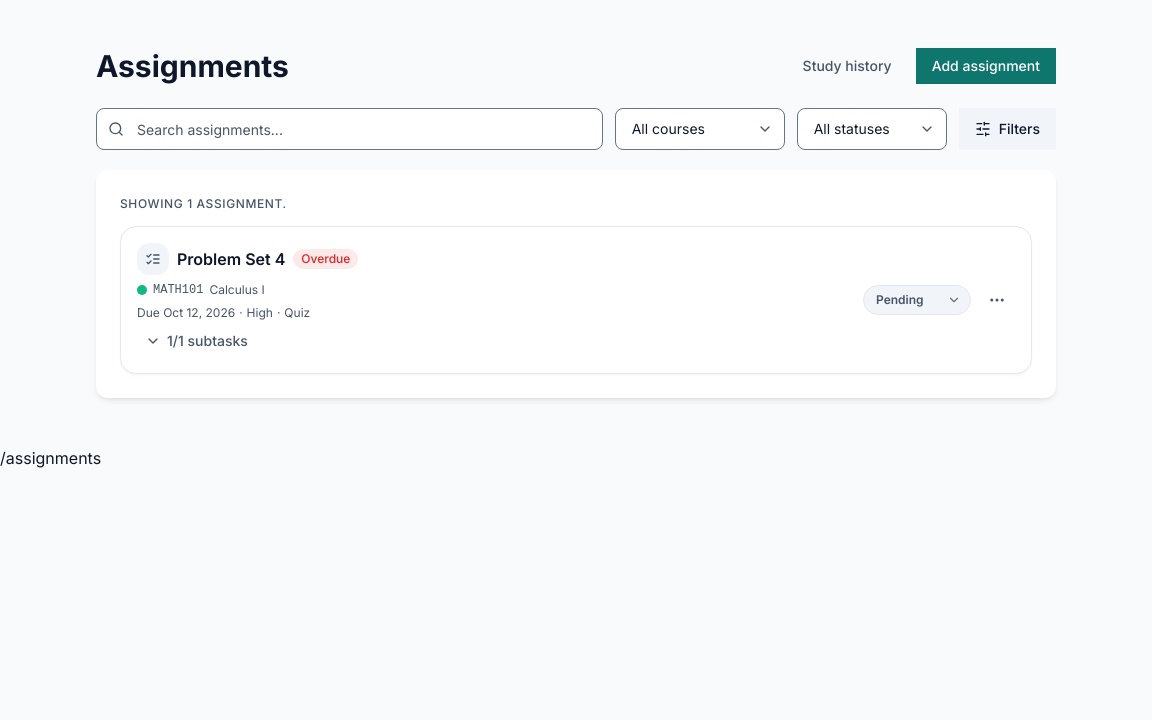
it: AssignmentsPage shared interaction (SP-124B AC 8) › opens the edit form from the overflow menu
The width and height of the screenshot is (1152, 720).
Expected: the button "Problem Set 4" is shown, top-left (177, 247), bottom-right (285, 271)
Click the button named "Actions for Problem Set 4" at [997, 300], box top-left (979, 282), bottom-right (1015, 318)
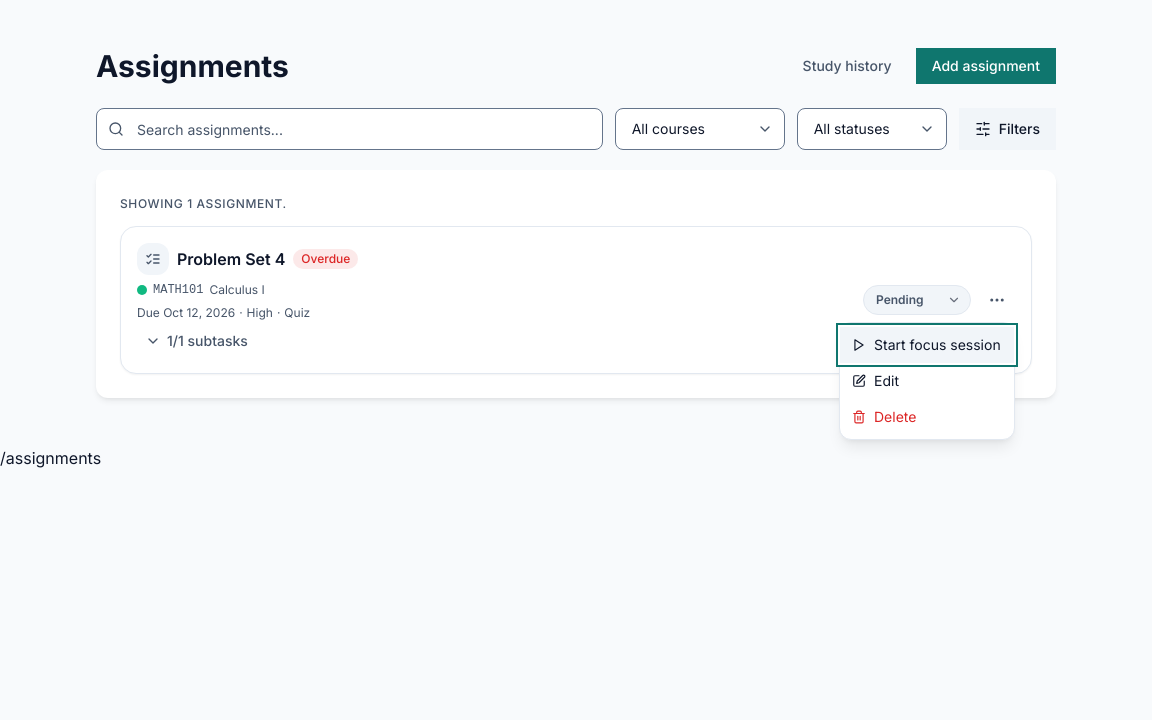
Click the menu item with aria-label "Edit Problem Set 4" at [927, 381], box top-left (840, 363), bottom-right (1014, 399)
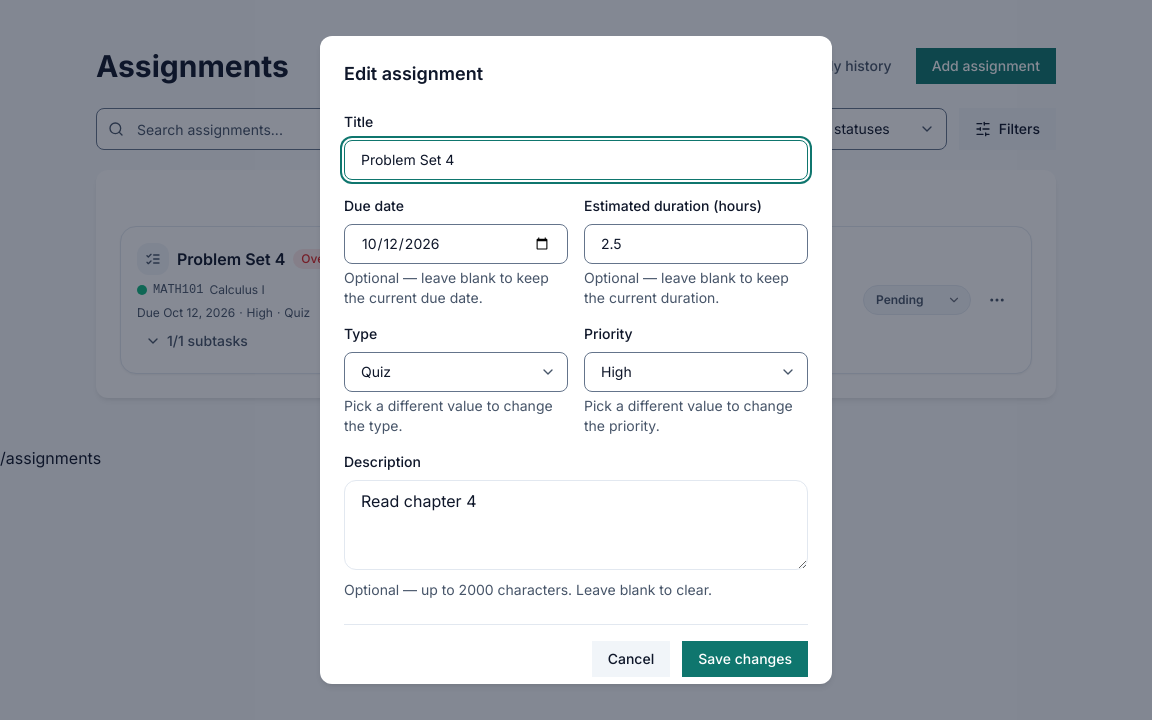
Expected: the dialog "Edit assignment" is shown, top-left (320, 36), bottom-right (832, 684)
Expected: the button "Save changes" is shown, top-left (682, 641), bottom-right (808, 677)
Expected: the field labelled "Title" holds "Problem Set 4", top-left (344, 140), bottom-right (808, 180)
